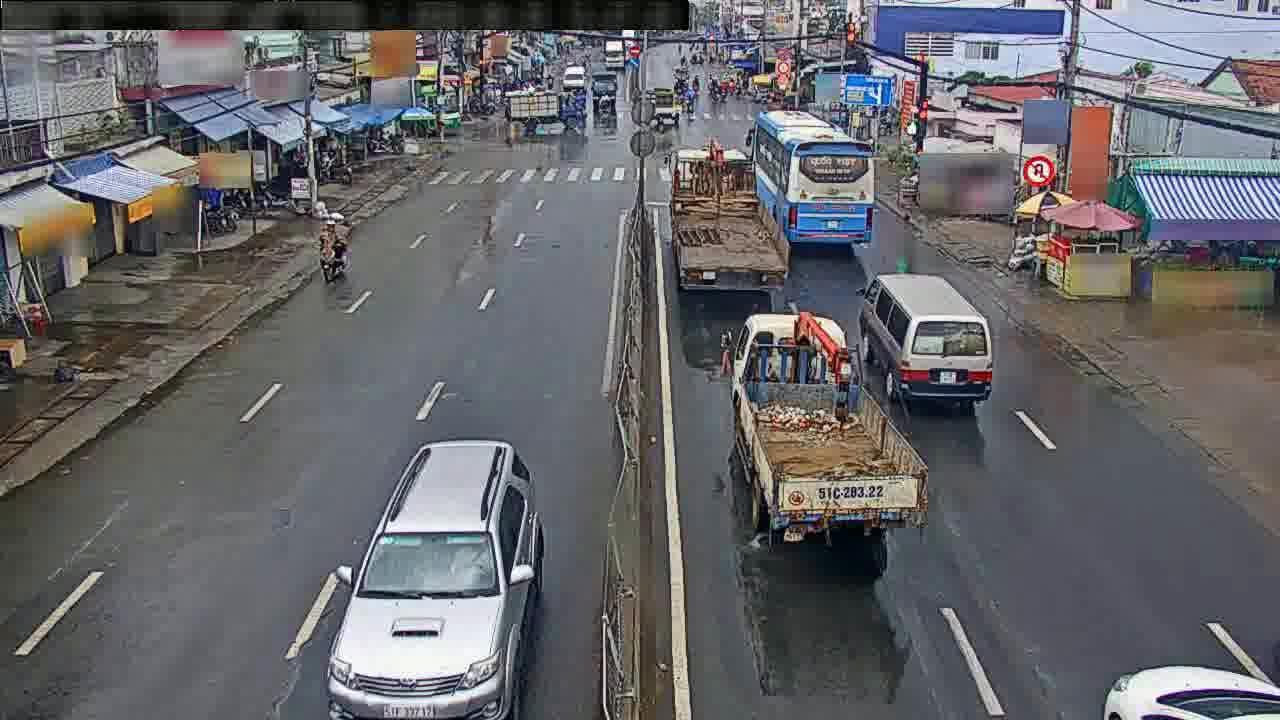14: (854, 271, 992, 404), (745, 109, 874, 250)
8: (719, 309, 932, 552), (665, 140, 792, 296)
container: (322, 434, 548, 720), (1108, 649, 1280, 720)
motorbike: (309, 215, 349, 284)
